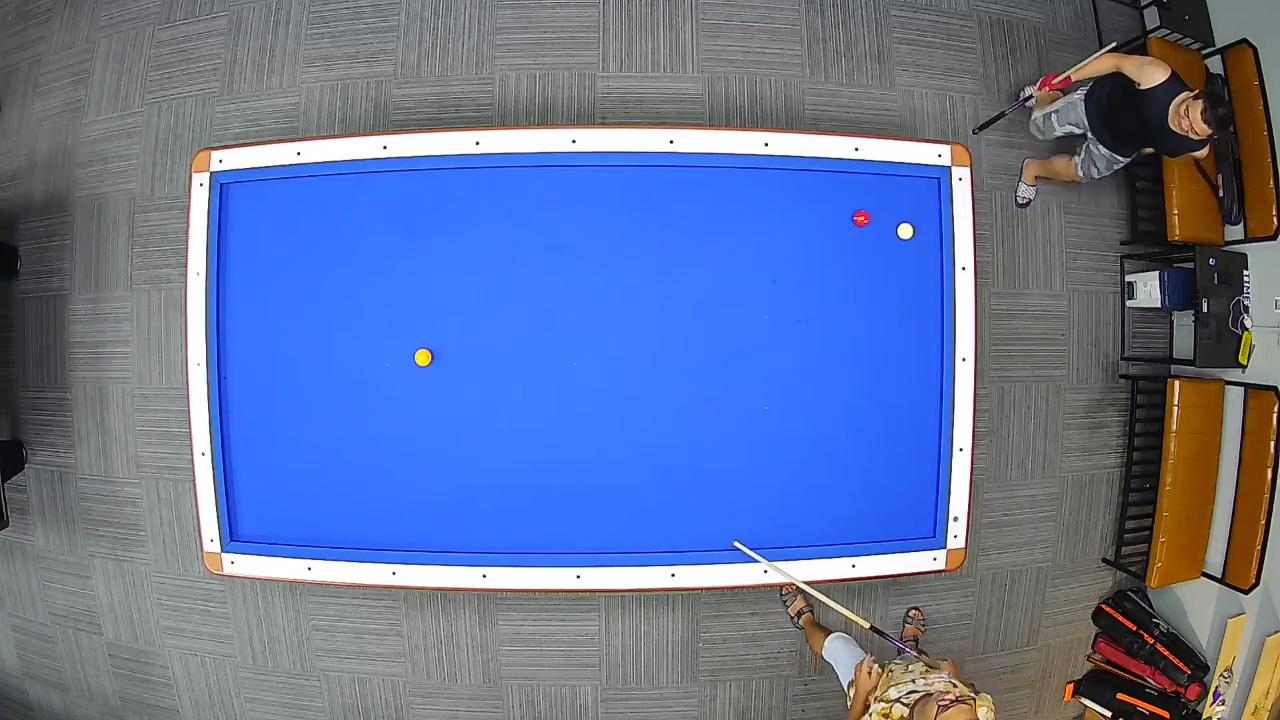Red: (852, 206, 870, 228)
White: (897, 221, 915, 241)
Yellow: (412, 348, 433, 368)
